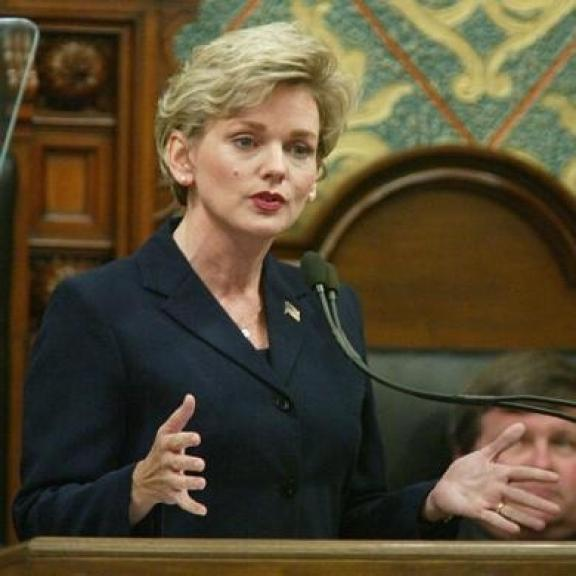face: (161, 54, 330, 244), (460, 378, 576, 540)
